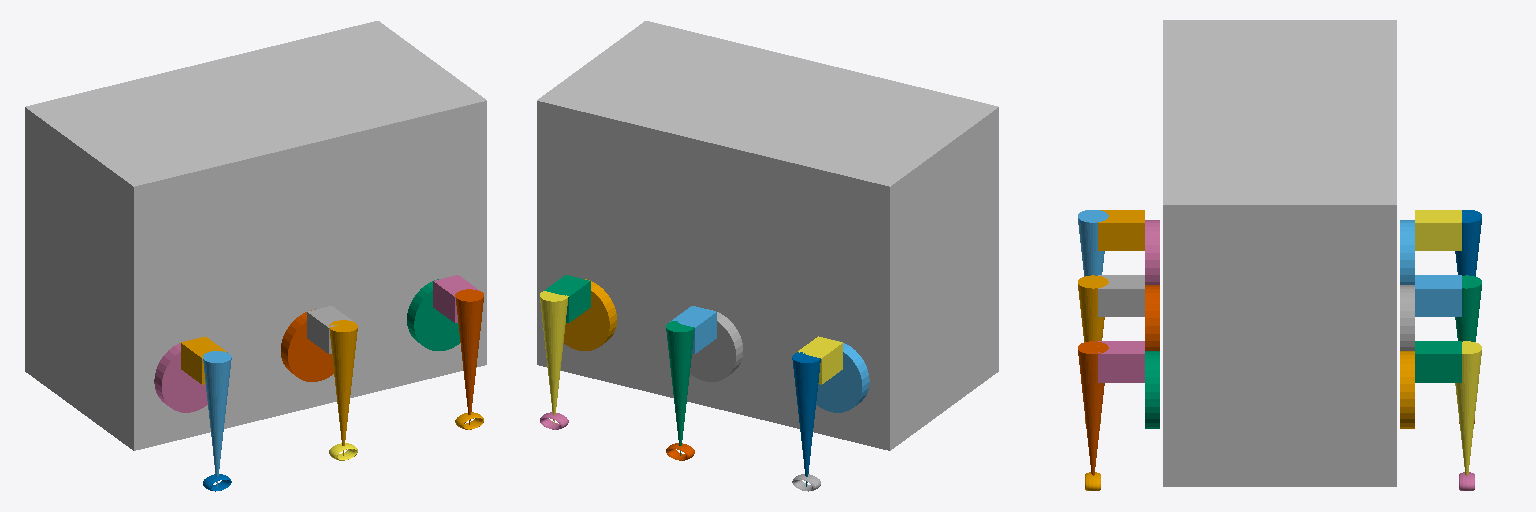
robot.urdf — oruga:
<robot name="oruga" version="1.0">
  <joint name="Cone.001_link_joint" type="fixed">
    <origin rpy="3.14159 -0.00000 3.14159" xyz="0.00000 -0.01800 -0.04000"/>
    <parent link="Cube.002_link"/>
    <child link="Cone.001_link"/>
  </joint>
  <joint name="Cone.002_link_joint" type="fixed">
    <origin rpy="3.14159 -0.00000 3.14159" xyz="0.00000 -0.01800 -0.04000"/>
    <parent link="Cube.004_link"/>
    <child link="Cone.002_link"/>
  </joint>
  <joint name="Cone.003_link_joint" type="fixed">
    <origin rpy="3.14159 -0.00000 3.14159" xyz="0.00000 0.01800 -0.04000"/>
    <parent link="Cube.005_link"/>
    <child link="Cone.003_link"/>
  </joint>
  <joint name="Cone.004_link_joint" type="fixed">
    <origin rpy="3.14159 -0.00000 3.14159" xyz="0.00000 0.01800 -0.04000"/>
    <parent link="Cube.006_link"/>
    <child link="Cone.004_link"/>
  </joint>
  <joint name="Cone.005_link_joint" type="fixed">
    <origin rpy="3.14159 -0.00000 3.14159" xyz="0.00000 0.01800 -0.04000"/>
    <parent link="Cube.007_link"/>
    <child link="Cone.005_link"/>
  </joint>
  <joint name="Cone_link_joint" type="fixed">
    <origin rpy="3.14159 -0.00000 3.14159" xyz="0.00000 -0.01800 -0.04000"/>
    <parent link="Cube.001_link"/>
    <child link="Cone_link"/>
  </joint>
  <joint name="Cube.001_link_joint" type="fixed">
    <origin rpy="-1.57080 0.00000 0.00000" xyz="0.00000 0.02000 0.02000"/>
    <parent link="Cylinder_link"/>
    <child link="Cube.001_link"/>
  </joint>
  <joint name="Cube.002_link_joint" type="fixed">
    <origin rpy="-1.57080 0.00000 0.00000" xyz="0.00000 0.02000 0.02000"/>
    <parent link="Cylinder.001_link"/>
    <child link="Cube.002_link"/>
  </joint>
  <joint name="Cube.004_link_joint" type="fixed">
    <origin rpy="-1.57080 0.00000 0.00000" xyz="-0.00000 0.02000 0.02000"/>
    <parent link="Cylinder.002_link"/>
    <child link="Cube.004_link"/>
  </joint>
  <joint name="Cube.005_link_joint" type="fixed">
    <origin rpy="-1.57080 0.00000 0.00000" xyz="0.00000 0.02000 -0.02000"/>
    <parent link="Cylinder.003_link"/>
    <child link="Cube.005_link"/>
  </joint>
  <joint name="Cube.006_link_joint" type="fixed">
    <origin rpy="-1.57080 0.00000 0.00000" xyz="0.00000 0.02000 -0.02000"/>
    <parent link="Cylinder.004_link"/>
    <child link="Cube.006_link"/>
  </joint>
  <joint name="Cube.007_link_joint" type="fixed">
    <origin rpy="-1.57080 0.00000 0.00000" xyz="-0.00000 0.02000 -0.02000"/>
    <parent link="Cylinder.005_link"/>
    <child link="Cube.007_link"/>
  </joint>
  <joint name="Cylinder.001_link_joint" type="continuous">
    <limit lower="0" upper="0" effort="100.00000" velocity="100.00000"/>
    <origin rpy="1.57080 0.00000 0.00000" xyz="0.00000 -0.08200 -0.05000"/>
    <parent link="Cube_link"/>
    <child link="Cylinder.001_link"/>
    <axis xyz="0.00000 0.00000 1.00000"/>
  </joint>
  <joint name="Cylinder.002_link_joint" type="continuous">
    <limit lower="0" upper="0" effort="100.00000" velocity="100.00000"/>
    <origin rpy="1.57080 0.00000 0.00000" xyz="-0.10000 -0.08200 -0.05000"/>
    <parent link="Cube_link"/>
    <child link="Cylinder.002_link"/>
    <axis xyz="0.00000 0.00000 1.00000"/>
  </joint>
  <joint name="Cylinder.003_link_joint" type="continuous">
    <limit lower="0" upper="0" effort="100.00000" velocity="100.00000"/>
    <origin rpy="1.57080 0.00000 0.00000" xyz="0.00000 0.08200 -0.05000"/>
    <parent link="Cube_link"/>
    <child link="Cylinder.003_link"/>
    <axis xyz="0.00000 0.00000 1.00000"/>
  </joint>
  <joint name="Cylinder.004_link_joint" type="continuous">
    <limit lower="0" upper="0" effort="100.00000" velocity="100.00000"/>
    <origin rpy="1.57080 0.00000 0.00000" xyz="0.10000 0.08200 -0.05000"/>
    <parent link="Cube_link"/>
    <child link="Cylinder.004_link"/>
    <axis xyz="0.00000 0.00000 1.00000"/>
  </joint>
  <joint name="Cylinder.005_link_joint" type="continuous">
    <limit lower="0" upper="0" effort="100.00000" velocity="100.00000"/>
    <origin rpy="1.57080 0.00000 0.00000" xyz="-0.10000 0.08200 -0.05000"/>
    <parent link="Cube_link"/>
    <child link="Cylinder.005_link"/>
    <axis xyz="0.00000 0.00000 1.00000"/>
  </joint>
  <joint name="Cylinder_link_joint" type="continuous">
    <limit lower="0" upper="0" effort="100.00000" velocity="100.00000"/>
    <origin rpy="1.57080 0.00000 0.00000" xyz="0.10000 -0.08200 -0.05000"/>
    <parent link="Cube_link"/>
    <child link="Cylinder_link"/>
    <axis xyz="0.00000 0.00000 1.00000"/>
  </joint>
  <joint name="Torus.001_link_joint" type="fixed">
    <origin rpy="-1.57080 -1.57080 -3.14159" xyz="-0.00000 0.00000 0.04500"/>
    <parent link="Cone.001_link"/>
    <child link="Torus.001_link"/>
  </joint>
  <joint name="Torus.002_link_joint" type="fixed">
    <origin rpy="-1.57080 -1.57080 -3.14159" xyz="0.00000 0.00000 0.04500"/>
    <parent link="Cone.002_link"/>
    <child link="Torus.002_link"/>
  </joint>
  <joint name="Torus.003_link_joint" type="fixed">
    <origin rpy="-1.57080 -1.57080 -3.14159" xyz="-0.00000 0.00000 0.04500"/>
    <parent link="Cone.003_link"/>
    <child link="Torus.003_link"/>
  </joint>
  <joint name="Torus.004_link_joint" type="fixed">
    <origin rpy="-1.57080 -1.57080 -3.14159" xyz="0.00000 0.00000 0.04500"/>
    <parent link="Cone.004_link"/>
    <child link="Torus.004_link"/>
  </joint>
  <joint name="Torus.005_link_joint" type="fixed">
    <origin rpy="-1.57080 -1.57080 -3.14159" xyz="0.00000 0.00000 0.04500"/>
    <parent link="Cone.005_link"/>
    <child link="Torus.005_link"/>
  </joint>
  <joint name="Torus_link_joint" type="fixed">
    <origin rpy="1.57080 -1.57080 3.14159" xyz="0.00000 0.00000 0.04500"/>
    <parent link="Cone_link"/>
    <child link="Torus_link"/>
  </joint>
  <link name="Cone.001_link">
    <inertial>
      <inertia ixx="0.00001" ixy="0.00000" ixz="-0.00000" iyy="0.00001" iyz="0.00000" izz="0.00000"/>
      <origin rpy="0.00000 0.00000 0.00000" xyz="0.00000 0.00000 -0.02500"/>
      <mass value="0.01000"/>
    </inertial>
    <visual name="Cone.001">
      <origin rpy="0.00000 -0.00000 0.00000" xyz="0.00000 0.00000 0.00000"/>
      <geometry>
        <mesh filename="../meshes/dae/Cone.001.dae" scale="0.01000 0.01000 0.05000"/>
      </geometry>
    </visual>
  </link>
  <link name="Cone.002_link">
    <inertial>
      <inertia ixx="0.00001" ixy="0.00000" ixz="-0.00000" iyy="0.00001" iyz="0.00000" izz="0.00000"/>
      <origin rpy="0.00000 0.00000 0.00000" xyz="0.00000 0.00000 -0.02500"/>
      <mass value="0.01000"/>
    </inertial>
    <visual name="Cone.002">
      <origin rpy="0.00000 -0.00000 0.00000" xyz="0.00000 0.00000 0.00000"/>
      <geometry>
        <mesh filename="../meshes/dae/Cone.002.dae" scale="0.01000 0.01000 0.05000"/>
      </geometry>
    </visual>
  </link>
  <link name="Cone.003_link">
    <inertial>
      <inertia ixx="0.00001" ixy="0.00000" ixz="-0.00000" iyy="0.00001" iyz="0.00000" izz="0.00000"/>
      <origin rpy="0.00000 0.00000 0.00000" xyz="0.00000 0.00000 -0.02500"/>
      <mass value="0.01000"/>
    </inertial>
    <visual name="Cone.003">
      <origin rpy="0.00000 -0.00000 0.00000" xyz="0.00000 0.00000 0.00000"/>
      <geometry>
        <mesh filename="../meshes/dae/Cone.003.dae" scale="0.01000 0.01000 0.05000"/>
      </geometry>
    </visual>
  </link>
  <link name="Cone.004_link">
    <inertial>
      <inertia ixx="0.00001" ixy="0.00000" ixz="-0.00000" iyy="0.00001" iyz="0.00000" izz="0.00000"/>
      <origin rpy="0.00000 0.00000 0.00000" xyz="0.00000 0.00000 -0.02500"/>
      <mass value="0.01000"/>
    </inertial>
    <visual name="Cone.004">
      <origin rpy="0.00000 -0.00000 0.00000" xyz="0.00000 0.00000 0.00000"/>
      <geometry>
        <mesh filename="../meshes/dae/Cone.004.dae" scale="0.01000 0.01000 0.05000"/>
      </geometry>
    </visual>
  </link>
  <link name="Cone.005_link">
    <inertial>
      <inertia ixx="0.00001" ixy="0.00000" ixz="-0.00000" iyy="0.00001" iyz="0.00000" izz="0.00000"/>
      <origin rpy="0.00000 0.00000 0.00000" xyz="0.00000 0.00000 -0.02500"/>
      <mass value="0.01000"/>
    </inertial>
    <visual name="Cone.005">
      <origin rpy="0.00000 -0.00000 0.00000" xyz="0.00000 0.00000 0.00000"/>
      <geometry>
        <mesh filename="../meshes/dae/Cone.005.dae" scale="0.01000 0.01000 0.05000"/>
      </geometry>
    </visual>
  </link>
  <link name="Cone_link">
    <inertial>
      <inertia ixx="0.00001" ixy="0.00000" ixz="-0.00000" iyy="0.00001" iyz="0.00000" izz="0.00000"/>
      <origin rpy="0.00000 0.00000 0.00000" xyz="0.00000 0.00000 -0.00000"/>
      <mass value="0.01000"/>
    </inertial>
    <visual name="Cone">
      <origin rpy="0.00000 -0.00000 0.00000" xyz="0.00000 0.00000 0.00000"/>
      <geometry>
        <mesh filename="../meshes/dae/Cone.dae" scale="0.01000 0.01000 0.05000"/>
      </geometry>
    </visual>
  </link>
  <link name="Cube.001_link">
    <inertial>
      <inertia ixx="0.00000" ixy="0.00000" ixz="0.00000" iyy="0.00000" iyz="0.00000" izz="0.00000"/>
      <origin rpy="0.00000 0.00000 0.00000" xyz="0.00000 -0.00000 0.00000"/>
      <mass value="0.01000"/>
    </inertial>
    <visual name="Cube.001">
      <origin rpy="0.00000 0.00000 0.00000" xyz="0.00000 0.00000 0.00000"/>
      <geometry>
        <box size="0.02000 0.03000 0.02000"/>
      </geometry>
    </visual>
  </link>
  <link name="Cube.002_link">
    <inertial>
      <inertia ixx="0.00000" ixy="0.00000" ixz="0.00000" iyy="0.00000" iyz="0.00000" izz="0.00000"/>
      <origin rpy="0.00000 0.00000 0.00000" xyz="0.00000 -0.00000 0.00000"/>
      <mass value="0.01000"/>
    </inertial>
    <visual name="Cube.002">
      <origin rpy="0.00000 0.00000 0.00000" xyz="0.00000 0.00000 0.00000"/>
      <geometry>
        <box size="0.02000 0.03000 0.02000"/>
      </geometry>
    </visual>
  </link>
  <link name="Cube.004_link">
    <inertial>
      <inertia ixx="0.00000" ixy="0.00000" ixz="0.00000" iyy="0.00000" iyz="0.00000" izz="0.00000"/>
      <origin rpy="0.00000 0.00000 0.00000" xyz="0.00000 -0.00000 0.00000"/>
      <mass value="0.01000"/>
    </inertial>
    <visual name="Cube.004">
      <origin rpy="0.00000 0.00000 0.00000" xyz="0.00000 0.00000 0.00000"/>
      <geometry>
        <box size="0.02000 0.03000 0.02000"/>
      </geometry>
    </visual>
  </link>
  <link name="Cube.005_link">
    <inertial>
      <inertia ixx="0.00000" ixy="0.00000" ixz="0.00000" iyy="0.00000" iyz="0.00000" izz="0.00000"/>
      <origin rpy="0.00000 0.00000 0.00000" xyz="0.00000 0.00000 0.00000"/>
      <mass value="0.01000"/>
    </inertial>
    <visual name="Cube.005">
      <origin rpy="0.00000 0.00000 0.00000" xyz="0.00000 0.00000 0.00000"/>
      <geometry>
        <box size="0.02000 0.03000 0.02000"/>
      </geometry>
    </visual>
  </link>
  <link name="Cube.006_link">
    <inertial>
      <inertia ixx="0.00000" ixy="0.00000" ixz="0.00000" iyy="0.00000" iyz="0.00000" izz="0.00000"/>
      <origin rpy="0.00000 0.00000 0.00000" xyz="0.00000 0.00000 0.00000"/>
      <mass value="0.01000"/>
    </inertial>
    <visual name="Cube.006">
      <origin rpy="0.00000 0.00000 0.00000" xyz="0.00000 0.00000 0.00000"/>
      <geometry>
        <box size="0.02000 0.03000 0.02000"/>
      </geometry>
    </visual>
  </link>
  <link name="Cube.007_link">
    <inertial>
      <inertia ixx="0.00000" ixy="0.00000" ixz="0.00000" iyy="0.00000" iyz="0.00000" izz="0.00000"/>
      <origin rpy="0.00000 0.00000 0.00000" xyz="0.00000 0.00000 0.00000"/>
      <mass value="0.01000"/>
    </inertial>
    <visual name="Cube.007">
      <origin rpy="0.00000 0.00000 0.00000" xyz="0.00000 0.00000 0.00000"/>
      <geometry>
        <box size="0.02000 0.03000 0.02000"/>
      </geometry>
    </visual>
  </link>
  <link name="Cube_link">
    <collision name="Cube_collision">
      <origin rpy="0.00000 0.00000 0.00000" xyz="0.00000 0.00000 -0.00000"/>
      <geometry>
        <box size="0.28000 0.15000 0.20000"/>
      </geometry>
    </collision>
    <inertial>
      <inertia ixx="0.00521" ixy="0.00000" ixz="0.00000" iyy="0.00987" iyz="0.00000" izz="0.00841"/>
      <origin rpy="0.00000 0.00000 0.00000" xyz="0.00000 0.00000 -0.00000"/>
      <mass value="1.00000"/>
    </inertial>
    <visual name="Cube">
      <origin rpy="0.00000 0.00000 0.00000" xyz="0.00000 0.00000 -0.00000"/>
      <material name="Material"/>
      <geometry>
        <box size="0.28000 0.15000 0.20000"/>
      </geometry>
    </visual>
  </link>
  <link name="Cylinder.001_link">
    <inertial>
      <inertia ixx="0.00000" ixy="0.00000" ixz="0.00000" iyy="0.00000" iyz="0.00000" izz="0.00000"/>
      <origin rpy="0.00000 0.00000 0.00000" xyz="0.00000 -0.00000 0.00000"/>
      <mass value="0.01000"/>
    </inertial>
    <visual name="Cylinder.001">
      <origin rpy="0.00000 0.00000 0.00000" xyz="0.00000 0.00000 0.00000"/>
      <geometry>
        <cylinder radius="0.02500" length="0.01000"/>
      </geometry>
    </visual>
  </link>
  <link name="Cylinder.002_link">
    <inertial>
      <inertia ixx="0.00000" ixy="0.00000" ixz="0.00000" iyy="0.00000" iyz="0.00000" izz="0.00000"/>
      <origin rpy="0.00000 0.00000 0.00000" xyz="-0.00000 -0.00000 0.00000"/>
      <mass value="0.01000"/>
    </inertial>
    <visual name="Cylinder.002">
      <origin rpy="0.00000 0.00000 0.00000" xyz="-0.00000 0.00000 0.00000"/>
      <geometry>
        <cylinder radius="0.02500" length="0.01000"/>
      </geometry>
    </visual>
  </link>
  <link name="Cylinder.003_link">
    <inertial>
      <inertia ixx="0.00000" ixy="0.00000" ixz="0.00000" iyy="0.00000" iyz="0.00000" izz="0.00000"/>
      <origin rpy="0.00000 0.00000 0.00000" xyz="0.00000 0.00000 -0.00000"/>
      <mass value="0.01000"/>
    </inertial>
    <visual name="Cylinder.003">
      <origin rpy="0.00000 0.00000 0.00000" xyz="0.00000 0.00000 -0.00000"/>
      <geometry>
        <cylinder radius="0.02500" length="0.01000"/>
      </geometry>
    </visual>
  </link>
  <link name="Cylinder.004_link">
    <inertial>
      <inertia ixx="0.00000" ixy="0.00000" ixz="0.00000" iyy="0.00000" iyz="0.00000" izz="0.00000"/>
      <origin rpy="0.00000 0.00000 0.00000" xyz="0.00000 0.00000 -0.00000"/>
      <mass value="0.01000"/>
    </inertial>
    <visual name="Cylinder.004">
      <origin rpy="0.00000 0.00000 0.00000" xyz="0.00000 0.00000 -0.00000"/>
      <geometry>
        <cylinder radius="0.02500" length="0.01000"/>
      </geometry>
    </visual>
  </link>
  <link name="Cylinder.005_link">
    <inertial>
      <inertia ixx="0.00000" ixy="0.00000" ixz="0.00000" iyy="0.00000" iyz="0.00000" izz="0.00000"/>
      <origin rpy="0.00000 0.00000 0.00000" xyz="-0.00000 0.00000 -0.00000"/>
      <mass value="0.01000"/>
    </inertial>
    <visual name="Cylinder.005">
      <origin rpy="0.00000 0.00000 0.00000" xyz="-0.00000 0.00000 -0.00000"/>
      <geometry>
        <cylinder radius="0.02500" length="0.01000"/>
      </geometry>
    </visual>
  </link>
  <link name="Cylinder_link">
    <inertial>
      <inertia ixx="0.00000" ixy="0.00000" ixz="0.00000" iyy="0.00000" iyz="0.00000" izz="0.00000"/>
      <origin rpy="0.00000 0.00000 0.00000" xyz="0.00000 -0.00000 0.00000"/>
      <mass value="0.01000"/>
    </inertial>
    <visual name="Cylinder">
      <origin rpy="0.00000 0.00000 0.00000" xyz="0.00000 0.00000 0.00000"/>
      <geometry>
        <cylinder radius="0.02500" length="0.01000"/>
      </geometry>
    </visual>
  </link>
  <link name="Torus.001_link">
    <collision name="Torus.001_collision">
      <origin rpy="0.00000 0.00000 0.00000" xyz="0.00000 0.00000 0.00000"/>
      <geometry>
        <mesh filename="../meshes/dae/Torus.001.dae" scale="0.00400 0.00800 0.02000"/>
      </geometry>
    </collision>
    <inertial>
      <inertia ixx="0.00000" ixy="0.00000" ixz="0.00000" iyy="0.00000" iyz="0.00000" izz="0.00000"/>
      <origin rpy="0.00000 0.00000 0.00000" xyz="0.00000 -0.00000 0.00000"/>
      <mass value="0.01000"/>
    </inertial>
    <visual name="Torus.001">
      <origin rpy="0.00000 0.00000 -0.00000" xyz="0.00000 0.00000 0.00000"/>
      <geometry>
        <mesh filename="../meshes/dae/Torus.001.dae" scale="0.00400 0.00800 0.02000"/>
      </geometry>
    </visual>
  </link>
  <link name="Torus.002_link">
    <collision name="Torus.002_collision">
      <origin rpy="0.00000 0.00000 0.00000" xyz="-0.00000 0.00000 0.00000"/>
      <geometry>
        <mesh filename="../meshes/dae/Torus.002.dae" scale="0.00400 0.00800 0.02000"/>
      </geometry>
    </collision>
    <inertial>
      <inertia ixx="0.00000" ixy="0.00000" ixz="0.00000" iyy="0.00000" iyz="0.00000" izz="0.00000"/>
      <origin rpy="0.00000 0.00000 0.00000" xyz="-0.00000 0.00000 0.00000"/>
      <mass value="0.01000"/>
    </inertial>
    <visual name="Torus.002">
      <origin rpy="0.00000 0.00000 -0.00000" xyz="-0.00000 0.00000 0.00000"/>
      <geometry>
        <mesh filename="../meshes/dae/Torus.002.dae" scale="0.00400 0.00800 0.02000"/>
      </geometry>
    </visual>
  </link>
  <link name="Torus.003_link">
    <collision name="Torus.003_collision">
      <origin rpy="0.00000 0.00000 0.00000" xyz="0.00000 0.00000 0.00000"/>
      <geometry>
        <mesh filename="../meshes/dae/Torus.003.dae" scale="0.00400 0.00800 0.02000"/>
      </geometry>
    </collision>
    <inertial>
      <inertia ixx="0.00000" ixy="0.00000" ixz="0.00000" iyy="0.00000" iyz="0.00000" izz="0.00000"/>
      <origin rpy="0.00000 0.00000 0.00000" xyz="0.00000 -0.00000 0.00000"/>
      <mass value="0.01000"/>
    </inertial>
    <visual name="Torus.003">
      <origin rpy="0.00000 0.00000 -0.00000" xyz="0.00000 0.00000 0.00000"/>
      <geometry>
        <mesh filename="../meshes/dae/Torus.003.dae" scale="0.00400 0.00800 0.02000"/>
      </geometry>
    </visual>
  </link>
  <link name="Torus.004_link">
    <collision name="Torus.004_collision">
      <origin rpy="0.00000 0.00000 0.00000" xyz="-0.00000 0.00000 0.00000"/>
      <geometry>
        <mesh filename="../meshes/dae/Torus.004.dae" scale="0.00400 0.00800 0.02000"/>
      </geometry>
    </collision>
    <inertial>
      <inertia ixx="0.00000" ixy="0.00000" ixz="0.00000" iyy="0.00000" iyz="0.00000" izz="0.00000"/>
      <origin rpy="0.00000 0.00000 0.00000" xyz="0.00000 0.00000 0.00000"/>
      <mass value="0.01000"/>
    </inertial>
    <visual name="Torus.004">
      <origin rpy="0.00000 0.00000 -0.00000" xyz="-0.00000 0.00000 0.00000"/>
      <geometry>
        <mesh filename="../meshes/dae/Torus.004.dae" scale="0.00400 0.00800 0.02000"/>
      </geometry>
    </visual>
  </link>
  <link name="Torus.005_link">
    <collision name="Torus.005_collision">
      <origin rpy="0.00000 0.00000 0.00000" xyz="-0.00000 0.00000 0.00000"/>
      <geometry>
        <mesh filename="../meshes/dae/Torus.005.dae" scale="0.00400 0.00800 0.02000"/>
      </geometry>
    </collision>
    <inertial>
      <inertia ixx="0.00000" ixy="0.00000" ixz="0.00000" iyy="0.00000" iyz="0.00000" izz="0.00000"/>
      <origin rpy="0.00000 0.00000 0.00000" xyz="-0.00000 0.00000 0.00000"/>
      <mass value="0.01000"/>
    </inertial>
    <visual name="Torus.005">
      <origin rpy="0.00000 0.00000 -0.00000" xyz="-0.00000 0.00000 0.00000"/>
      <geometry>
        <mesh filename="../meshes/dae/Torus.005.dae" scale="0.00400 0.00800 0.02000"/>
      </geometry>
    </visual>
  </link>
  <link name="Torus_link">
    <collision name="Torus_collision">
      <origin rpy="-0.00000 0.00000 -0.00000" xyz="-0.00000 -0.00000 -0.00000"/>
      <geometry>
        <mesh filename="../meshes/dae/Torus.dae" scale="0.00400 0.00800 0.02000"/>
      </geometry>
    </collision>
    <inertial>
      <inertia ixx="0.00000" ixy="-0.00000" ixz="0.00000" iyy="0.00000" iyz="-0.00000" izz="0.00000"/>
      <origin rpy="0.00000 0.00000 0.00000" xyz="-0.00000 -0.00000 -0.00000"/>
      <mass value="0.01000"/>
    </inertial>
    <visual name="Torus">
      <origin rpy="-0.00000 0.00000 0.00000" xyz="-0.00000 -0.00000 -0.00000"/>
      <geometry>
        <mesh filename="../meshes/dae/Torus.dae" scale="0.00400 0.00800 0.02000"/>
      </geometry>
    </visual>
  </link>
  <material name="Material">
    <color rgba="0.80000 0.80000 0.80000 1.00000"/>
  </material>
</robot>

--- Facts derived from the render (not from the file) ---
Views: 3 orthographic renders of the robot side by side, from view 1: azimuth 30°, elevation 25°; view 2: azimuth 150°, elevation 25°; view 3: azimuth 270°, elevation 25°.
Robot: oruga — 25 links, 24 joints (6 continuous, 18 fixed); root link Cube_link; default pose: all joints at 0.
Visible links, largest first — view 1: Cube_link, Cylinder.002_link, Cylinder.001_link, Cylinder_link, Cone_link, Cone.002_link, Cone.001_link, Cube.002_link, Cube.001_link, Cube.004_link; view 2: Cube_link, Cylinder.005_link, Cylinder.003_link, Cylinder.004_link, Cone.003_link, Cone.005_link, Cone.004_link, Cube.006_link, Cube.005_link, Cube.007_link; view 3: Cube_link, Cone_link, Cone.004_link, Cube.005_link, Cube.006_link, Cube.007_link, Cube.001_link, Cube.002_link, Cube.004_link, Cone.001_link, Cone.002_link, Cone.005_link (+7 smaller).
Boxes of the visible links, <box> form: Cube_link: <box>25,21,486,450</box>; Cylinder.002_link: <box>154,340,207,412</box>; Cylinder.001_link: <box>281,309,333,381</box>; Cylinder_link: <box>407,279,459,350</box>; Cone_link: <box>455,289,483,424</box>; Cone.002_link: <box>203,351,231,486</box>; Cone.001_link: <box>329,320,357,455</box>; Cube.002_link: <box>307,306,353,353</box>; Cube.001_link: <box>433,275,479,322</box>; Cube.004_link: <box>181,336,227,384</box>; Cube_link: <box>537,21,998,450</box>; Cylinder.005_link: <box>816,340,869,412</box>; Cylinder.003_link: <box>690,309,742,381</box>; Cylinder.004_link: <box>564,279,616,350</box>; Cone.003_link: <box>666,321,694,455</box>; Cone.005_link: <box>792,352,820,486</box>; Cone.004_link: <box>540,291,568,424</box>; Cube.006_link: <box>544,275,590,322</box>; Cube.005_link: <box>670,306,716,353</box>; Cube.007_link: <box>796,336,842,384</box>; Cube_link: <box>1163,20,1396,486</box>; Cone_link: <box>1078,341,1108,475</box>; Cone.004_link: <box>1455,341,1481,475</box>; Cube.005_link: <box>1415,275,1461,316</box>; Cube.006_link: <box>1415,341,1461,382</box>; Cube.007_link: <box>1415,210,1461,250</box>; Cube.001_link: <box>1098,341,1144,382</box>; Cube.002_link: <box>1098,275,1144,316</box>; Cube.004_link: <box>1098,210,1144,250</box>; Cone.001_link: <box>1078,275,1108,341</box>; Cone.002_link: <box>1078,210,1108,276</box>; Cone.005_link: <box>1455,210,1481,276</box>.
Size in the robot's own frame: 0.28 by 0.26 by 0.22 metres.
12 mesh visuals loaded from 12 distinct referenced files (12 Collada DAE).
